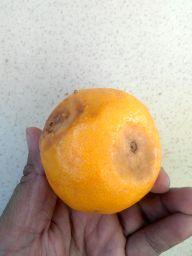Ripe: (41, 91, 159, 212)
